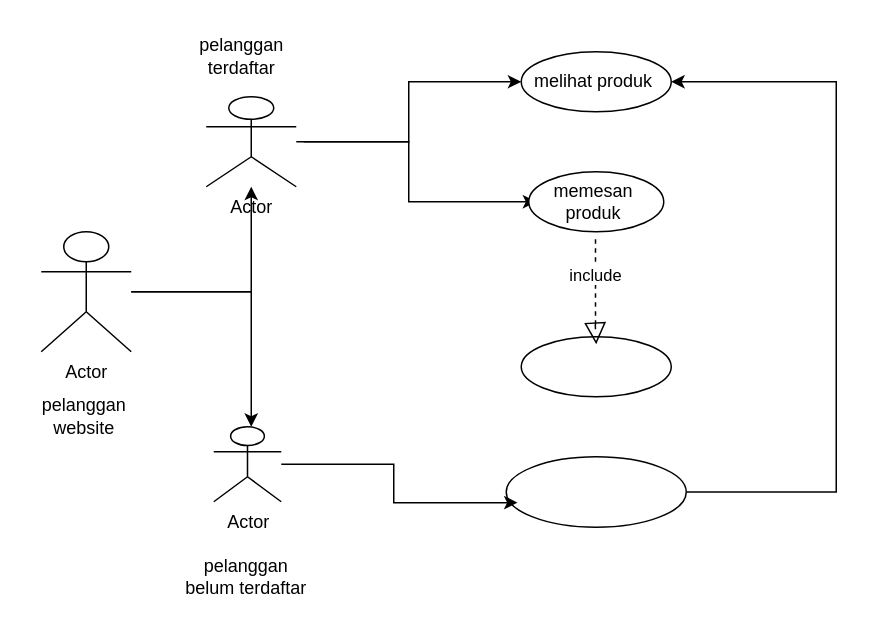
Image size: 875x632. Some labels were removed from this diagram. Here are the shapes that lost their labels. From the top down, the centre of each, then its label:
At (595,366): "checkout produk".
At (595,491): "mendaftar akun".
